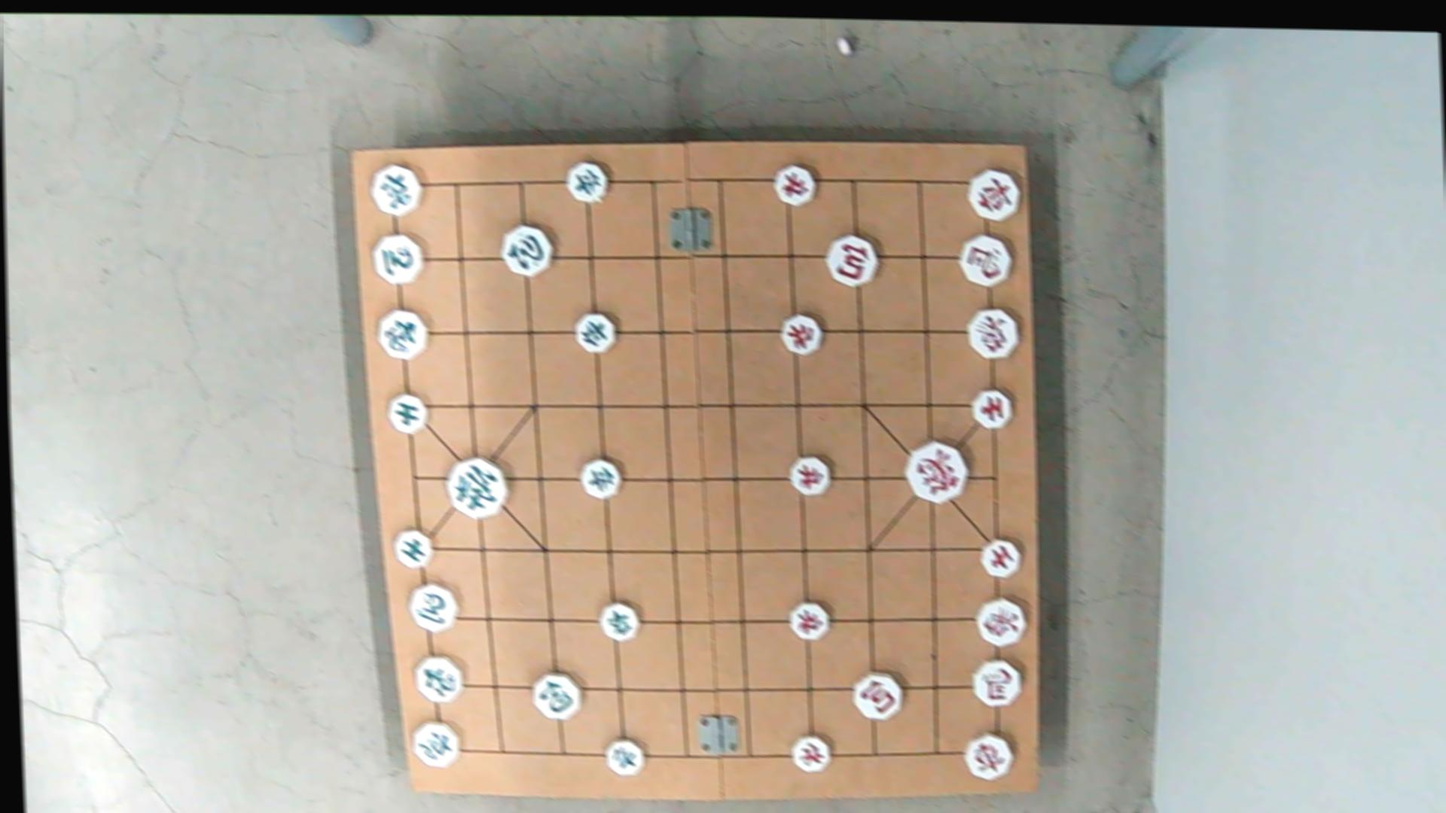cha_green: (371, 165, 426, 214), (410, 719, 462, 764)
cha_red: (964, 169, 1023, 220), (962, 732, 1015, 780)
jol_green: (565, 163, 612, 200), (597, 602, 645, 638), (571, 314, 616, 352), (578, 458, 624, 495), (605, 739, 648, 775)
jol_red: (786, 457, 834, 495), (779, 317, 826, 354), (773, 166, 819, 203), (788, 601, 832, 637), (790, 736, 834, 769)
ma_green: (372, 233, 427, 282), (408, 583, 462, 628)
ma_red: (957, 230, 1015, 285), (970, 657, 1023, 704)
po_green: (500, 227, 556, 275), (532, 674, 584, 717)
po_red: (824, 236, 879, 284), (852, 671, 904, 715)
sa_green: (388, 394, 432, 431), (392, 530, 435, 566)
sa_red: (978, 535, 1023, 582), (970, 385, 1014, 432)
sang_green: (413, 653, 466, 704), (378, 309, 432, 358)
sang_red: (962, 306, 1020, 362), (975, 596, 1030, 642)
wang_green: (444, 456, 510, 518)
wang_red: (907, 441, 972, 498)
